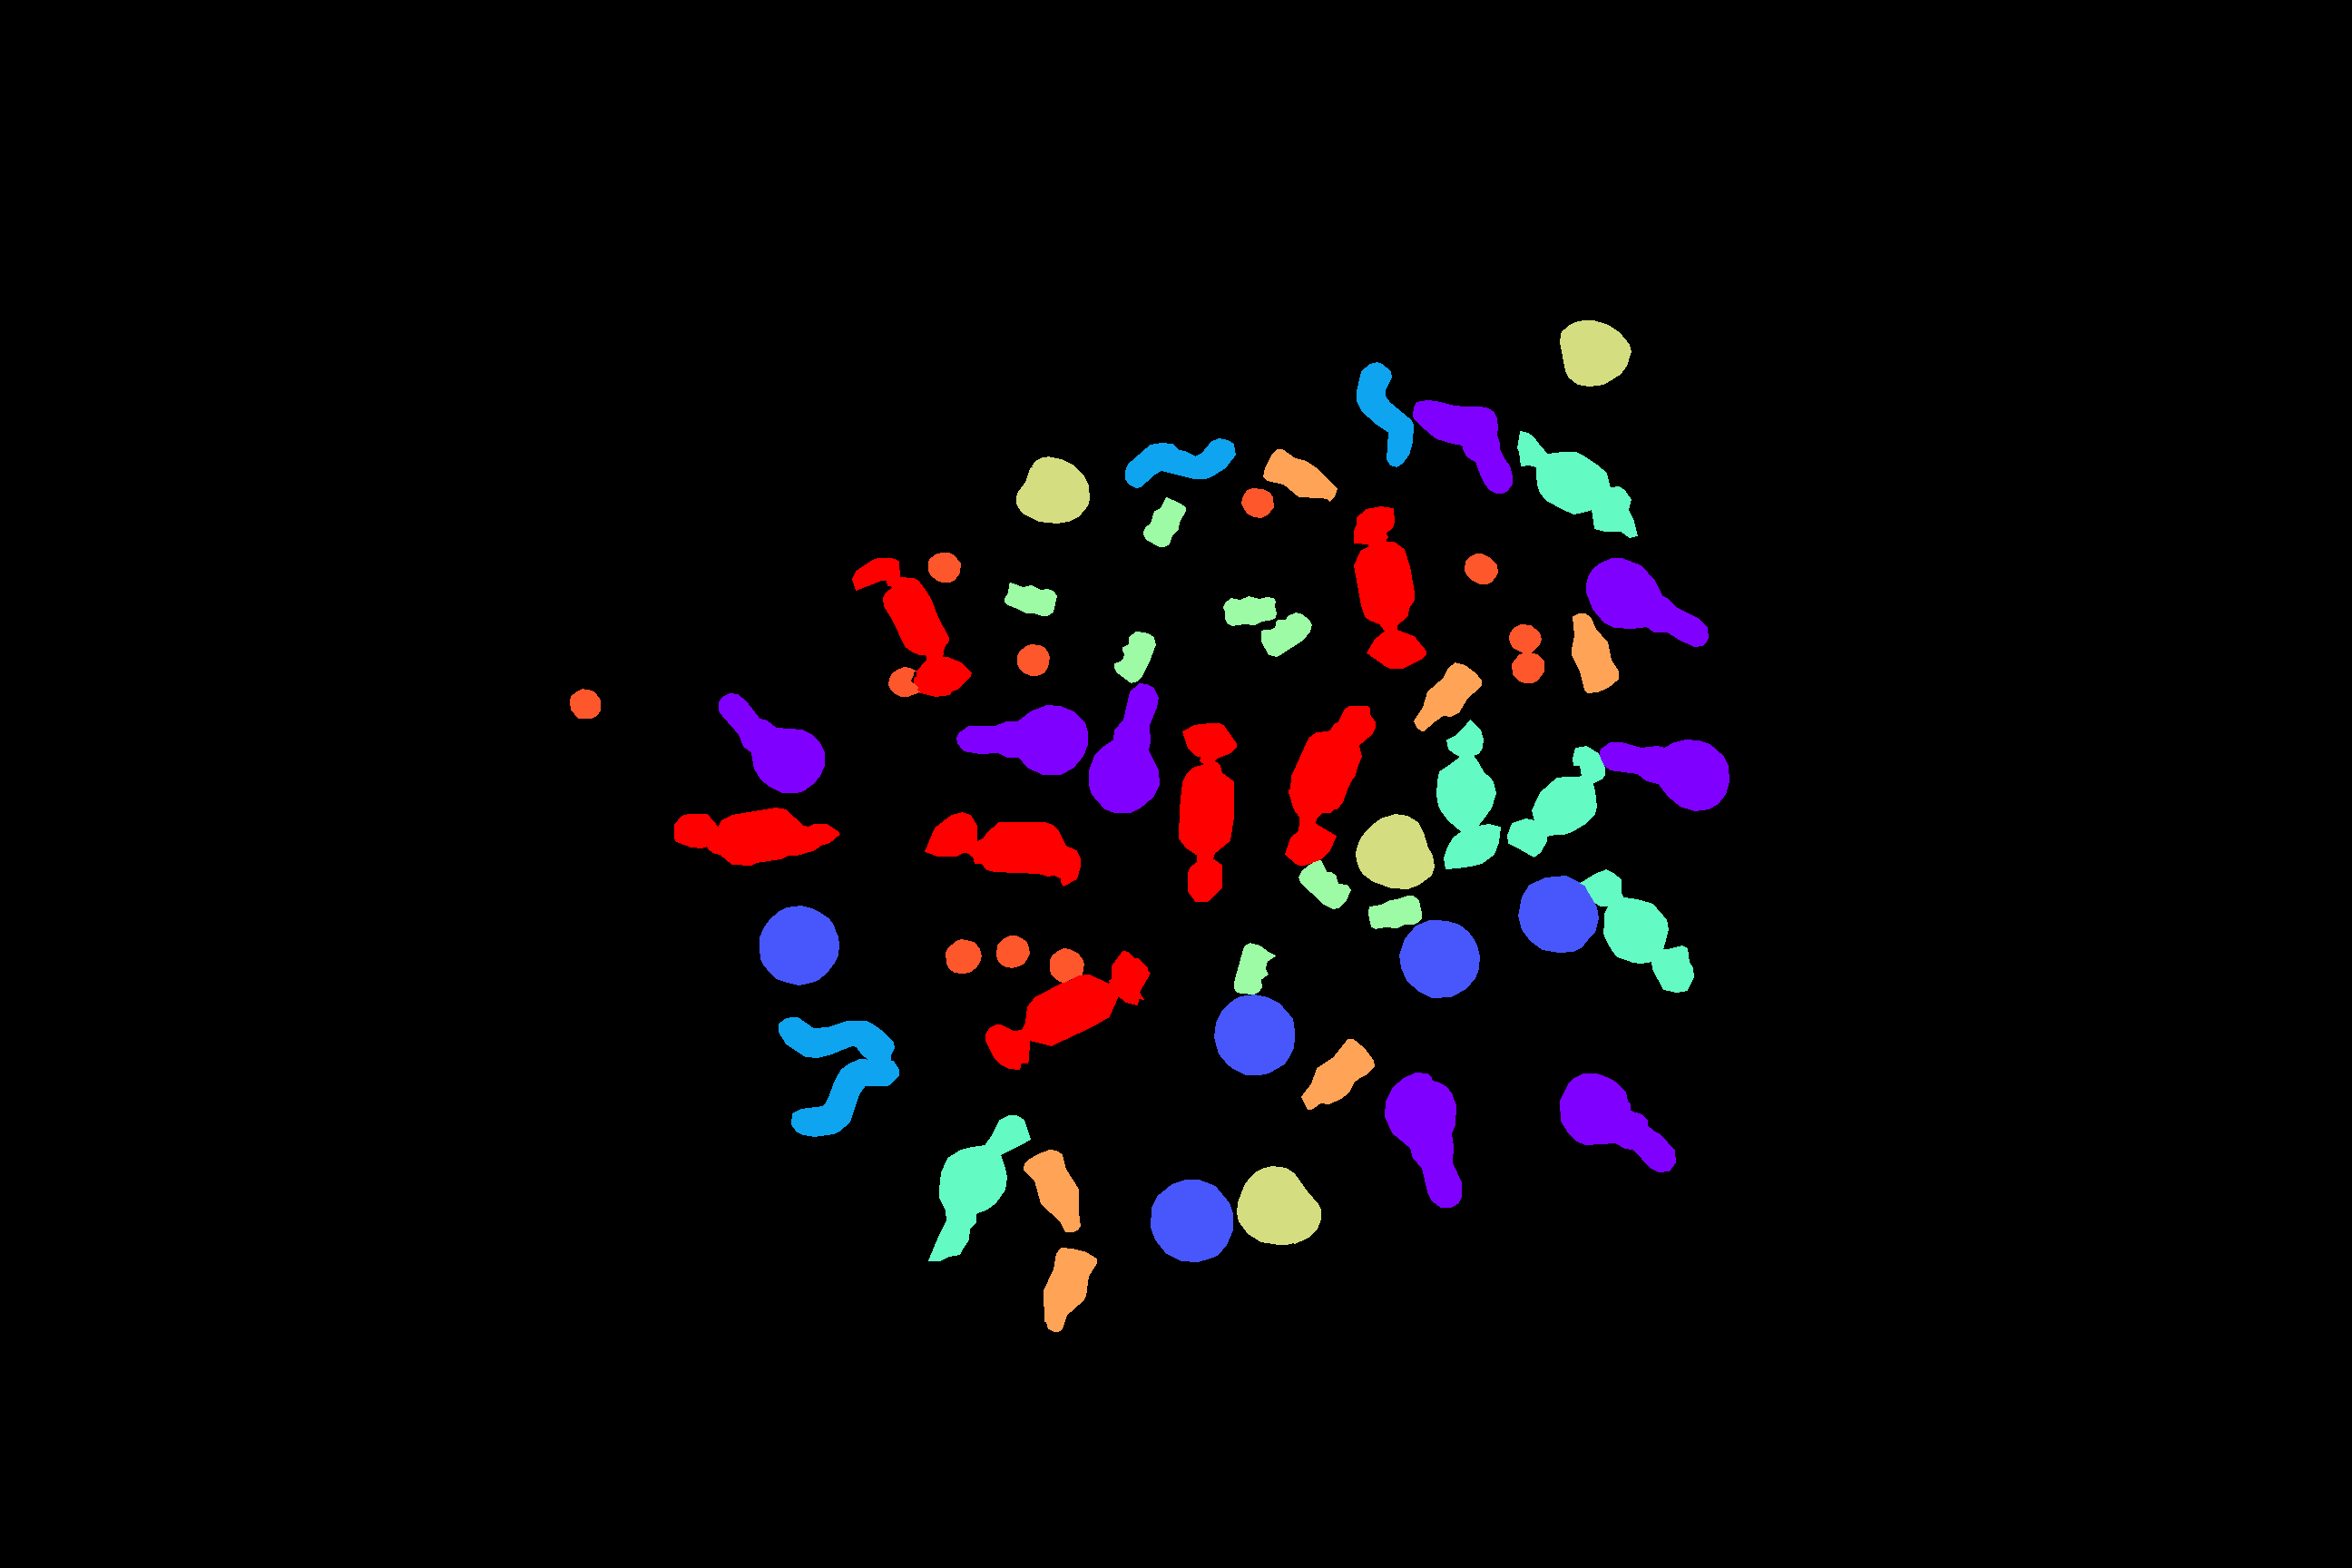apricot_jellies: (1237, 1166, 1319, 1244), (1356, 814, 1433, 889), (1017, 457, 1089, 523), (1559, 320, 1631, 385)
bear: (1298, 861, 1351, 908), (1262, 612, 1311, 656), (1143, 497, 1185, 546), (1115, 632, 1155, 682), (1004, 583, 1057, 616), (1234, 943, 1267, 994), (1368, 896, 1421, 927), (1223, 597, 1276, 625)
coin_candy: (1150, 1179, 1232, 1262), (759, 905, 838, 985), (1215, 994, 1293, 1074), (1517, 875, 1598, 952), (1400, 920, 1477, 997)
cola bottle candies: (1302, 1040, 1374, 1109), (1024, 1150, 1080, 1232), (1414, 663, 1481, 730), (1043, 1248, 1095, 1332), (1264, 450, 1337, 500), (1571, 614, 1619, 693)
dummies: (1559, 1073, 1675, 1171), (1585, 558, 1708, 646), (719, 693, 824, 793), (1384, 1073, 1461, 1207), (1412, 401, 1512, 494), (1600, 740, 1729, 810), (1089, 682, 1158, 812), (957, 705, 1087, 773)
riesen: (985, 950, 1150, 1069), (852, 558, 971, 696), (1285, 705, 1375, 865), (1354, 506, 1426, 669), (924, 812, 1080, 886), (1179, 723, 1236, 901), (674, 807, 840, 865)
skittles: (945, 940, 982, 973), (1050, 948, 1083, 982), (996, 936, 1029, 968), (1017, 644, 1048, 675), (1465, 553, 1498, 583), (1241, 488, 1272, 518), (1512, 653, 1543, 682), (927, 553, 961, 581), (889, 667, 919, 696), (1509, 625, 1540, 653), (571, 689, 600, 718)
sourworms: (791, 1059, 898, 1136), (1356, 362, 1412, 467), (1125, 438, 1236, 486), (779, 1017, 894, 1060)
vollmilch_brocken: (927, 1115, 1031, 1260), (1580, 870, 1694, 992), (1517, 431, 1636, 537), (1507, 745, 1605, 856), (1437, 719, 1500, 868)
